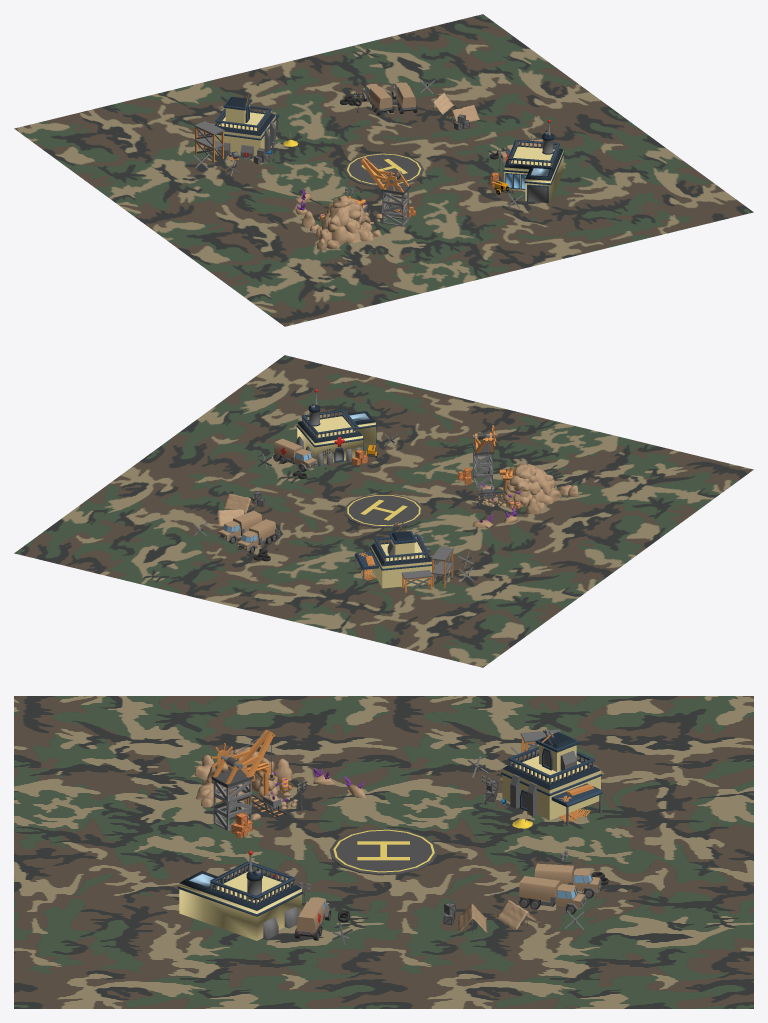
File: map (2).fbx
The picture shows the model from 3 angles, top to bottom: view 1: azimuth 30°, elevation 25°; view 2: azimuth 150°, elevation 25°; view 3: azimuth 270°, elevation 25°; orthographic projection. The views are drawn at different scales.
Visible parts, largest first — view 1: ground_plane, hospital, builder_house, cave_entrance, cave_crane, H_pad, builder_trees, camp_truck_2, camp_truck_1; view 2: ground_plane, hospital, builder_house, cave_entrance, H_pad, builder_trees, cave_crane, paramedical_truck, camp_truck_2, camp_truck_1; view 3: ground_plane, hospital, builder_house, H_pad, cave_crane, cave_entrance, camp_truck_1, camp_truck_2, paramedical_truck, camp_tent_1, cave_env.
Part boxes in pixels (left/top/right/bottom): ground_plane: left=14, top=14, right=753, bottom=326; hospital: left=501, top=119, right=564, bottom=203; builder_house: left=211, top=91, right=278, bottom=158; cave_entrance: left=301, top=195, right=384, bottom=250; cave_crane: left=360, top=156, right=410, bottom=226; H_pad: left=344, top=153, right=423, bottom=186; builder_trees: left=194, top=121, right=224, bottom=162; camp_truck_2: left=361, top=84, right=393, bottom=115; camp_truck_1: left=392, top=82, right=417, bottom=113; ground_plane: left=14, top=355, right=753, bottom=667; hospital: left=295, top=389, right=376, bottom=466; builder_house: left=354, top=522, right=434, bottom=588; cave_entrance: left=480, top=463, right=578, bottom=514; H_pad: left=344, top=494, right=422, bottom=527; builder_trees: left=401, top=546, right=453, bottom=592; cave_crane: left=472, top=425, right=496, bottom=486; paramedical_truck: left=273, top=438, right=317, bottom=471; camp_truck_2: left=236, top=519, right=276, bottom=553; camp_truck_1: left=217, top=510, right=262, bottom=543; ground_plane: left=14, top=696, right=753, bottom=1008; hospital: left=178, top=850, right=303, bottom=940; builder_house: left=501, top=729, right=602, bottom=826; H_pad: left=329, top=828, right=438, bottom=875; cave_crane: left=211, top=729, right=275, bottom=830; cave_entrance: left=195, top=747, right=297, bottom=820; camp_truck_1: left=518, top=876, right=586, bottom=914; camp_truck_2: left=534, top=863, right=601, bottom=898; paramedical_truck: left=294, top=897, right=331, bottom=940; camp_tent_1: left=495, top=899, right=540, bottom=930; cave_env: left=245, top=761, right=288, bottom=817.
Bounding box in the file's own units: 8000 × 986 × 8000.
